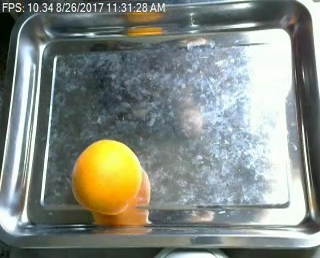Orange: (71, 138, 141, 215)
